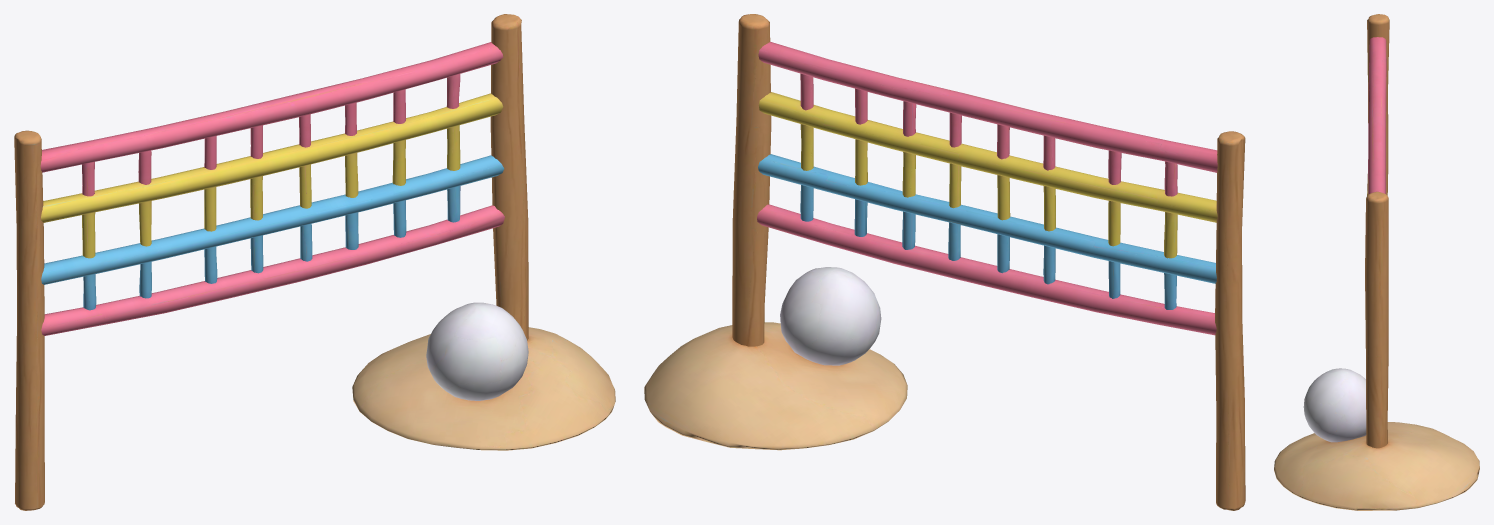
Rendered from volleyball.glb.
3 views of the same model, side by side, from view 1: azimuth 30°, elevation 25°; view 2: azimuth 150°, elevation 25°; view 3: azimuth 270°, elevation 25° (orthographic). The views are drawn at different scales.
Visible parts, largest first — view 1: geometry_0; view 2: geometry_0; view 3: geometry_0.
Boxes of the visible parts, <box> form: geometry_0: <box>14,14,615,510</box>; geometry_0: <box>644,14,1245,510</box>; geometry_0: <box>1274,14,1479,510</box>.
Bounding box in the file's own units: 1 × 0.6165 × 0.4059.
Materials: 1 (1 with a texture image).
